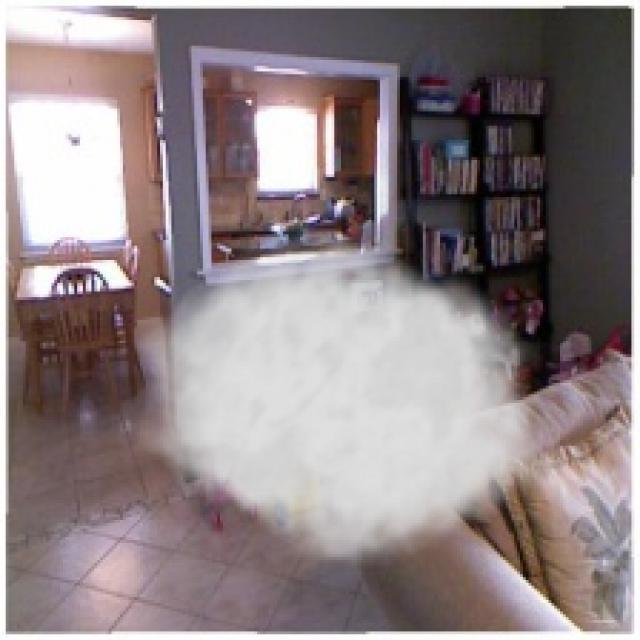Smoke: (134, 220, 557, 574)
